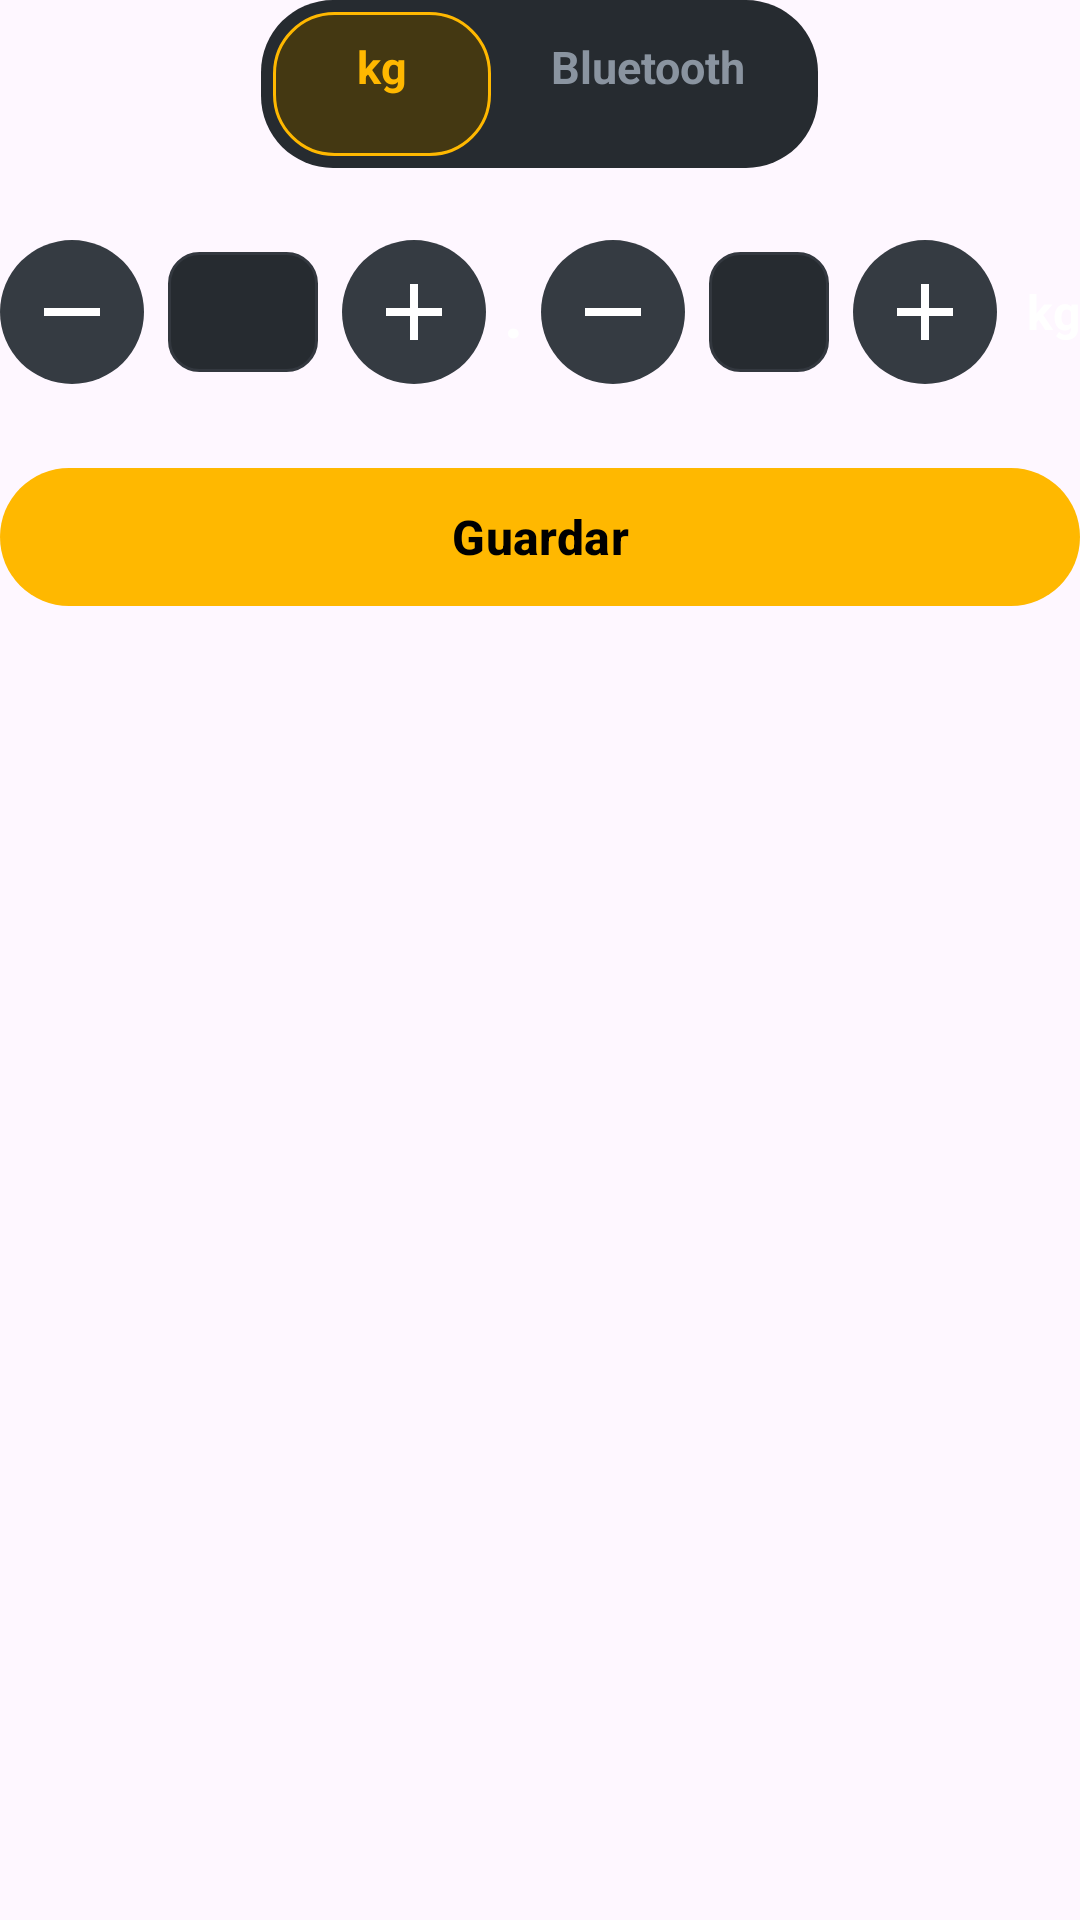

Point at icon controls on the screen. Image size 1080*1920, points as point (x, y).
Aumentar decimal: point (925, 312)
Aumentar peso: point (414, 312)
Disminuir decimal: point (613, 312)
Disminuir peso: point (72, 312)
